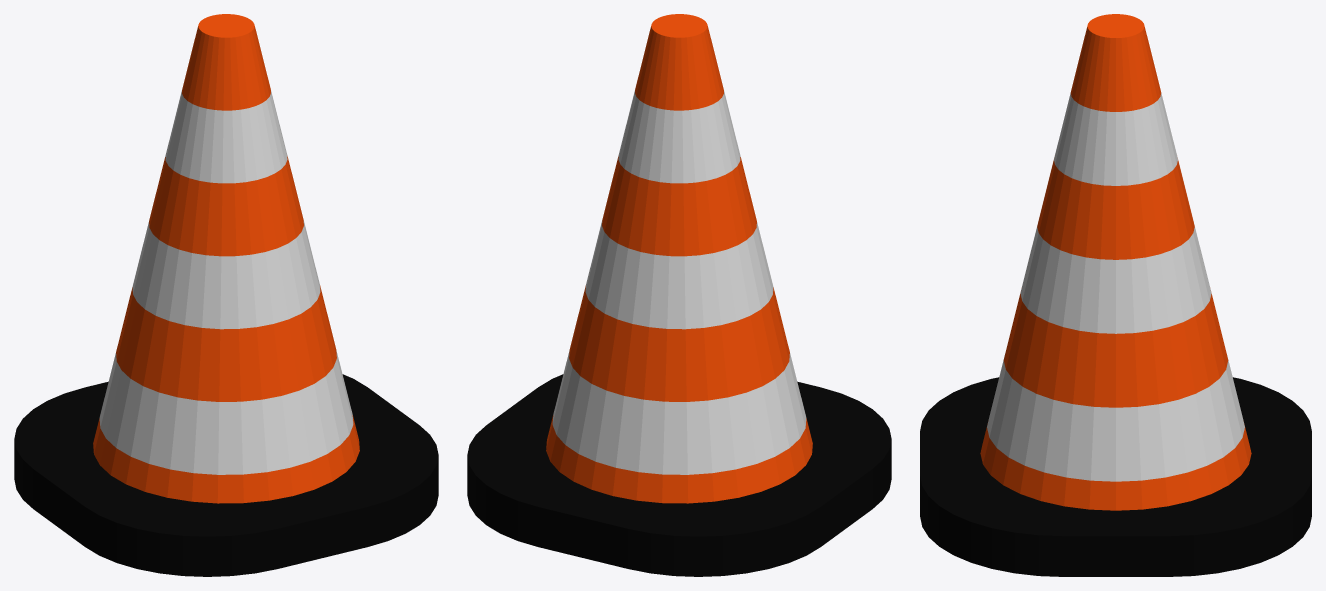
File: Traffic cone.fbx
3 views of the same model, side by side, from view 1: azimuth 30°, elevation 25°; view 2: azimuth 150°, elevation 25°; view 3: azimuth 270°, elevation 25° (orthographic).
Visible parts, largest first — view 1: Cylinder, Cube; view 2: Cylinder, Cube; view 3: Cylinder, Cube.
Boxes of the visible parts, x1,y1,x2,y2 form: Cylinder: (93,14,359,503); Cube: (14,374,438,576); Cylinder: (546,14,812,503); Cube: (467,374,891,576); Cylinder: (980,14,1251,510); Cube: (920,377,1311,576).
Size of the model in its own units: 200 by 267 by 200.
